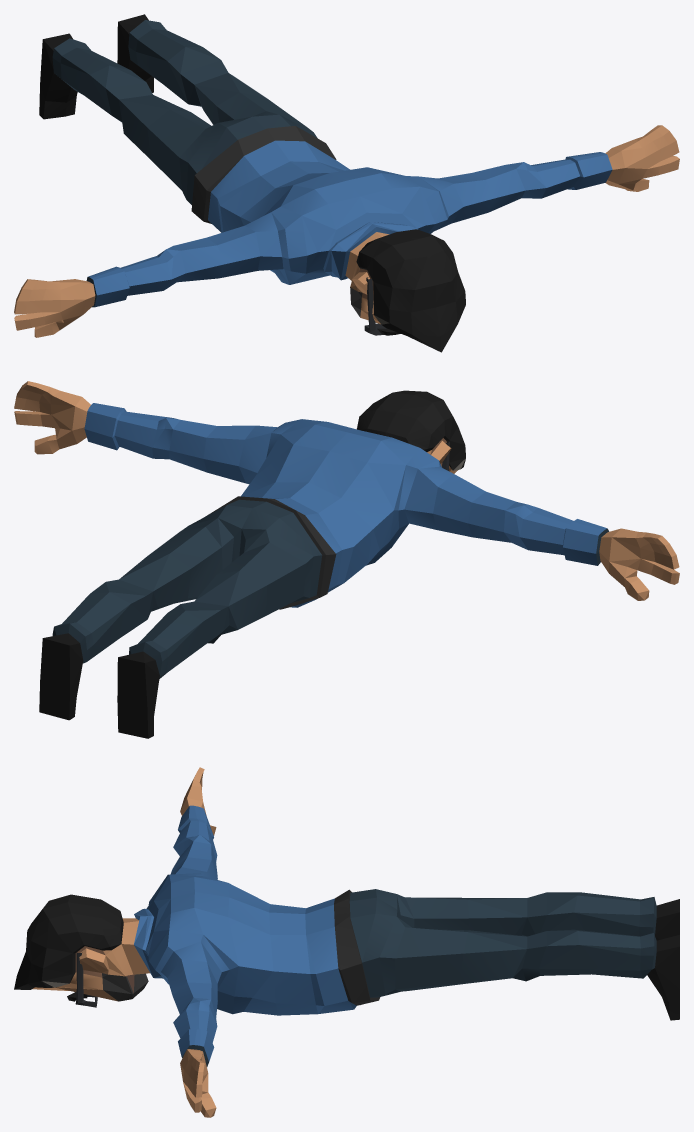
File: guillermo.fbx
The picture shows the model from 3 angles, top to bottom: view 1: azimuth 30°, elevation 25°; view 2: azimuth 150°, elevation 25°; view 3: azimuth 270°, elevation 25°; orthographic projection. The views are drawn at different scales.
Parts seen in each view (by area): view 1: guilee; view 2: guilee; view 3: guilee.
Part boxes in pixels (x1=…): guilee: x1=14, y1=14, x2=679, y2=352; guilee: x1=14, y1=381, x2=679, y2=738; guilee: x1=14, y1=767, x2=679, y2=1117.
Bounding box in the file's own units: 205 × 35.13 × 186.
